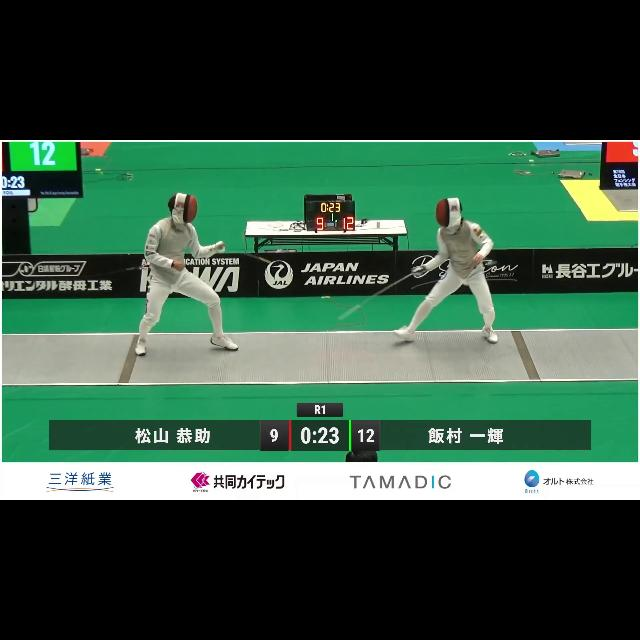blade: (337, 264, 428, 326), (212, 238, 278, 270)
